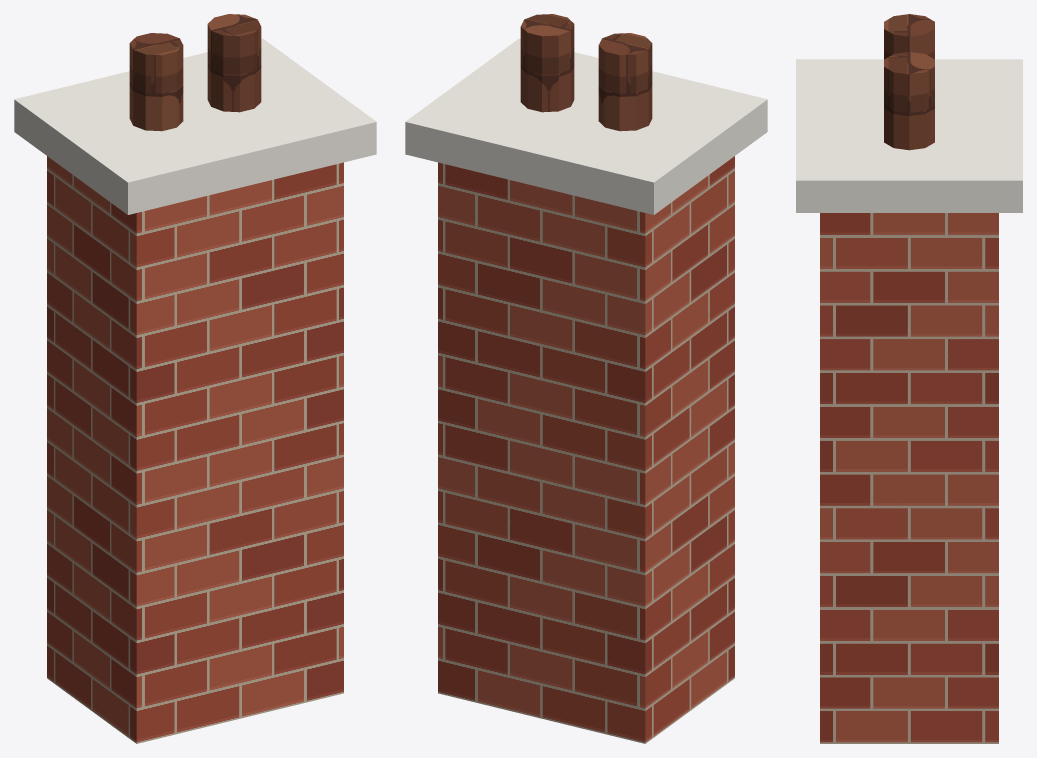
Rendered from chimney.glb.
3 renders of one model, left to right at view 1: azimuth 30°, elevation 25°; view 2: azimuth 150°, elevation 25°; view 3: azimuth 270°, elevation 25°, orthographic.
Visible parts, largest first — view 1: chimney_brick, chimney_trim, chimney_roof_tiles; view 2: chimney_brick, chimney_trim, chimney_roof_tiles; view 3: chimney_brick, chimney_trim, chimney_roof_tiles.
Boxes of the visible parts, x1,y1,x2,y2 form: chimney_brick: (47,156,343,743); chimney_trim: (14,38,376,214); chimney_roof_tiles: (129,14,261,131); chimney_brick: (438,156,734,743); chimney_trim: (405,38,767,214); chimney_roof_tiles: (520,14,652,131); chimney_brick: (820,213,998,743); chimney_trim: (796,59,1022,212); chimney_roof_tiles: (884,14,934,150).
Size of the model in its own units: 0.96 by 2.4 by 0.76.
3 materials, 2 textured.
